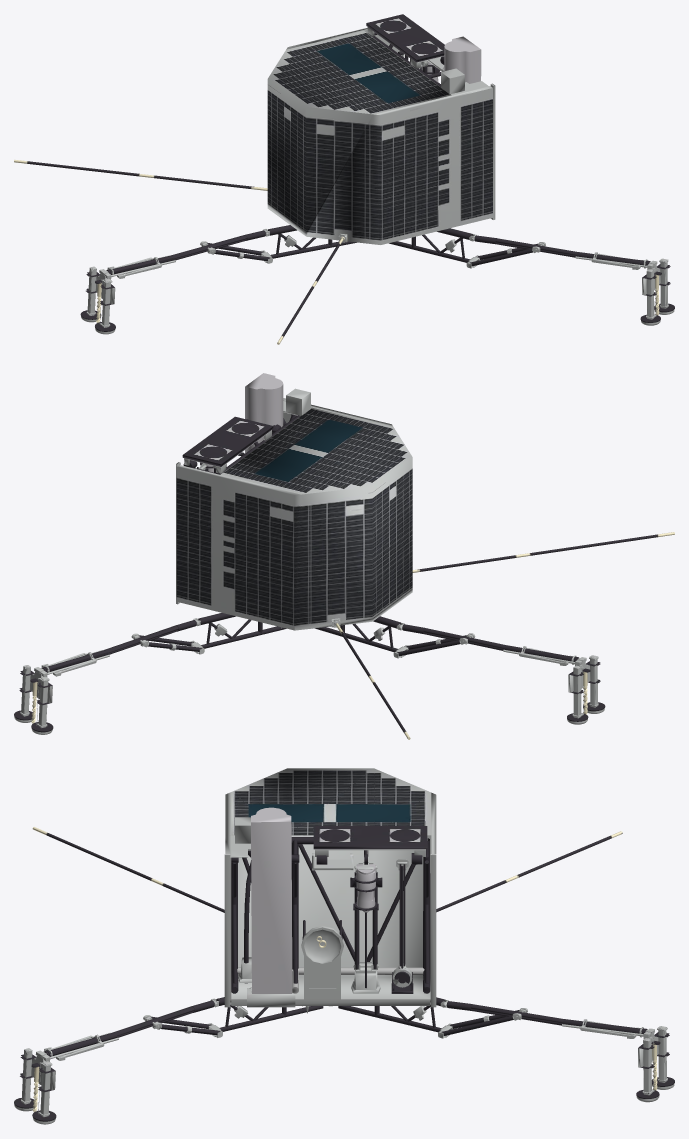
Rendered from philae.glb.
3 views of the same model, one above another, from view 1: azimuth 30°, elevation 25°; view 2: azimuth 150°, elevation 25°; view 3: azimuth 270°, elevation 25° (orthographic). The views are drawn at different scales.
Visible parts, largest first — view 1: philae; view 2: philae; view 3: philae.
Boxes of the visible parts, left/top/right/bottom form: philae: left=14, top=14, right=674, bottom=344; philae: left=14, top=373, right=674, bottom=739; philae: left=14, top=768, right=674, bottom=1124.
Size of the model in its own units: 279 by 128 by 308.
Materials: 1 (1 with a texture image).
